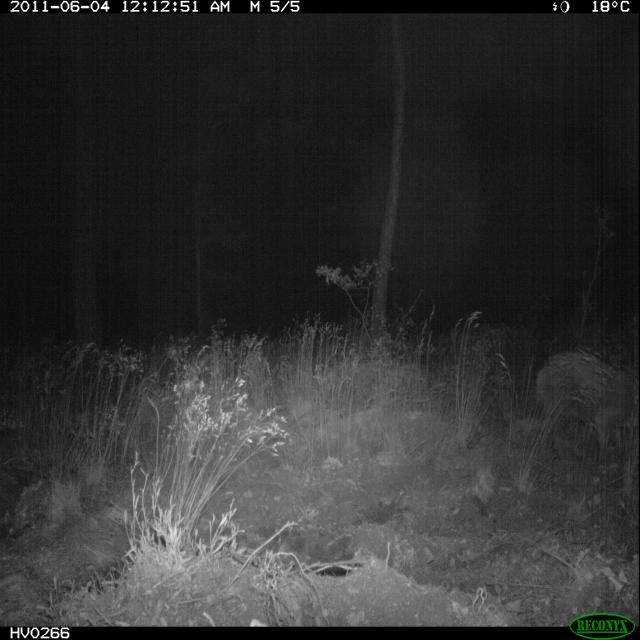boar: (514, 330, 634, 461)
